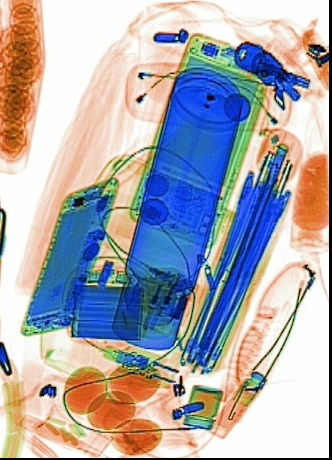powerbank: (66, 263, 147, 340)
